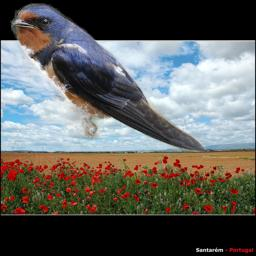Swallow: (10, 3, 206, 152)
